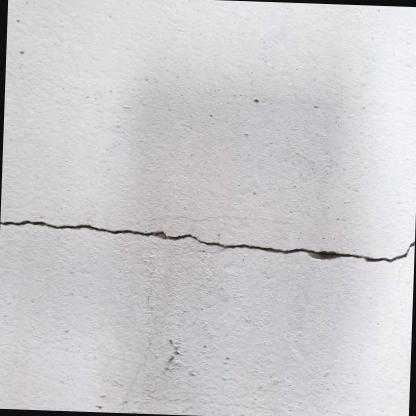crack: (0, 220, 416, 263)
